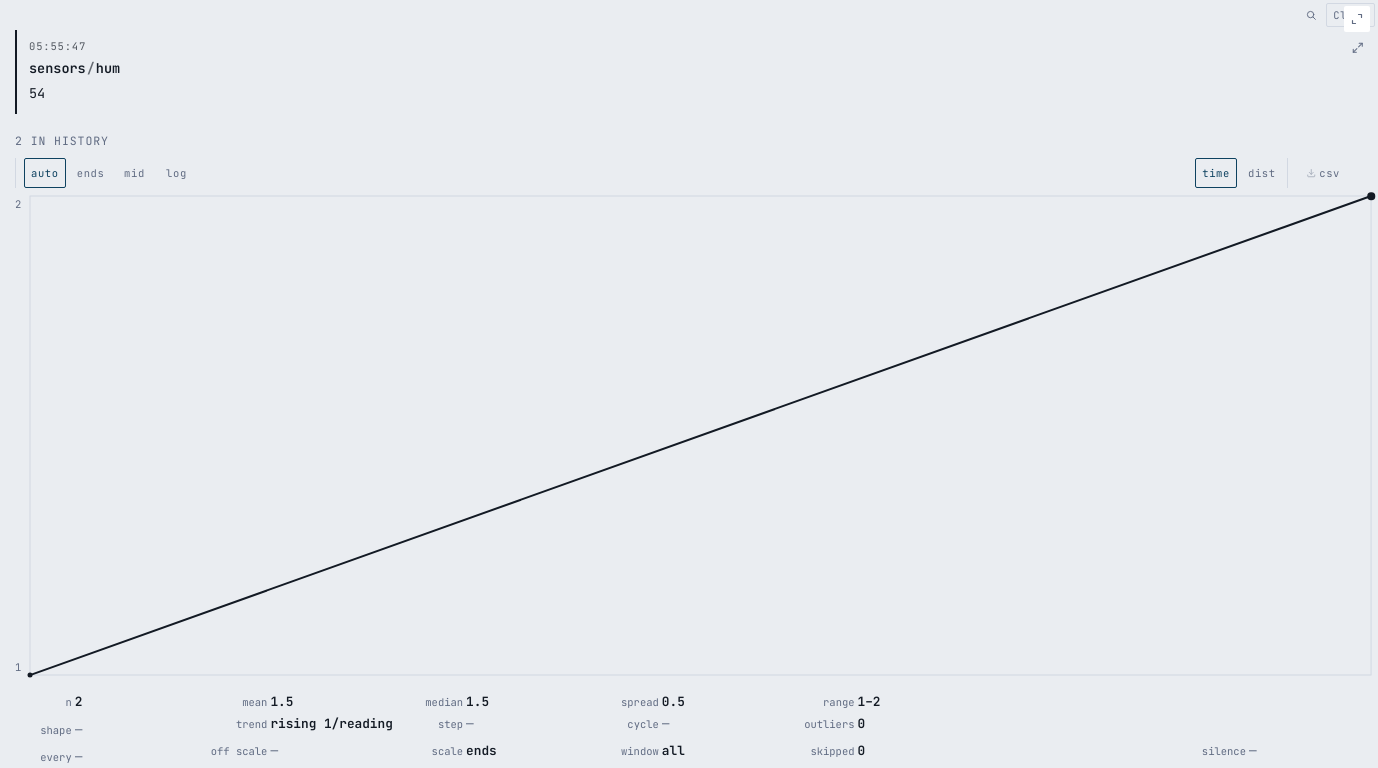
Test: opening the history › names the topic on every row when the rows are different topics
Click the button "2 in history". click: (62, 141)
box: [15,127,109,155]
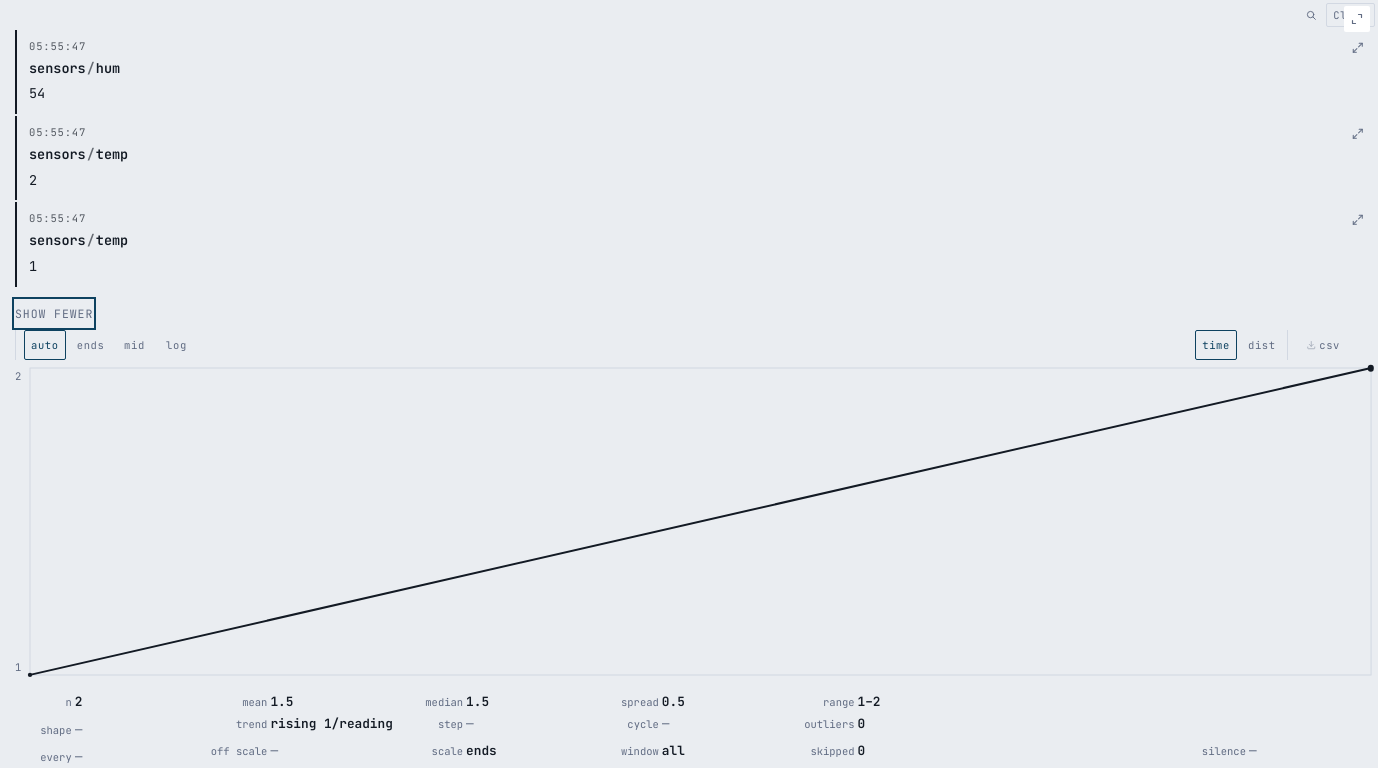
Expected: the number of elements with test id "topic" is 3, [29,58,120,76]; [29,145,128,163]; [29,231,128,249]
